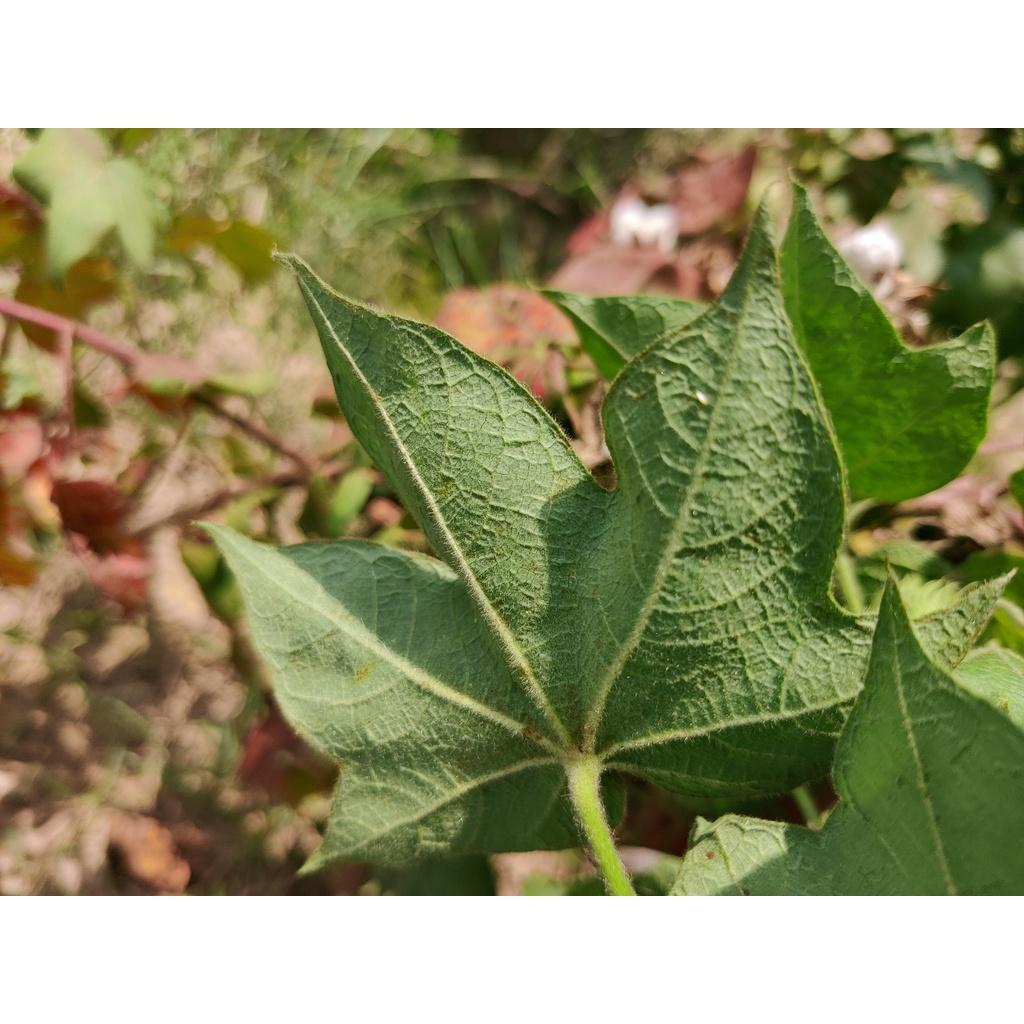adult: (695, 390, 709, 407)
